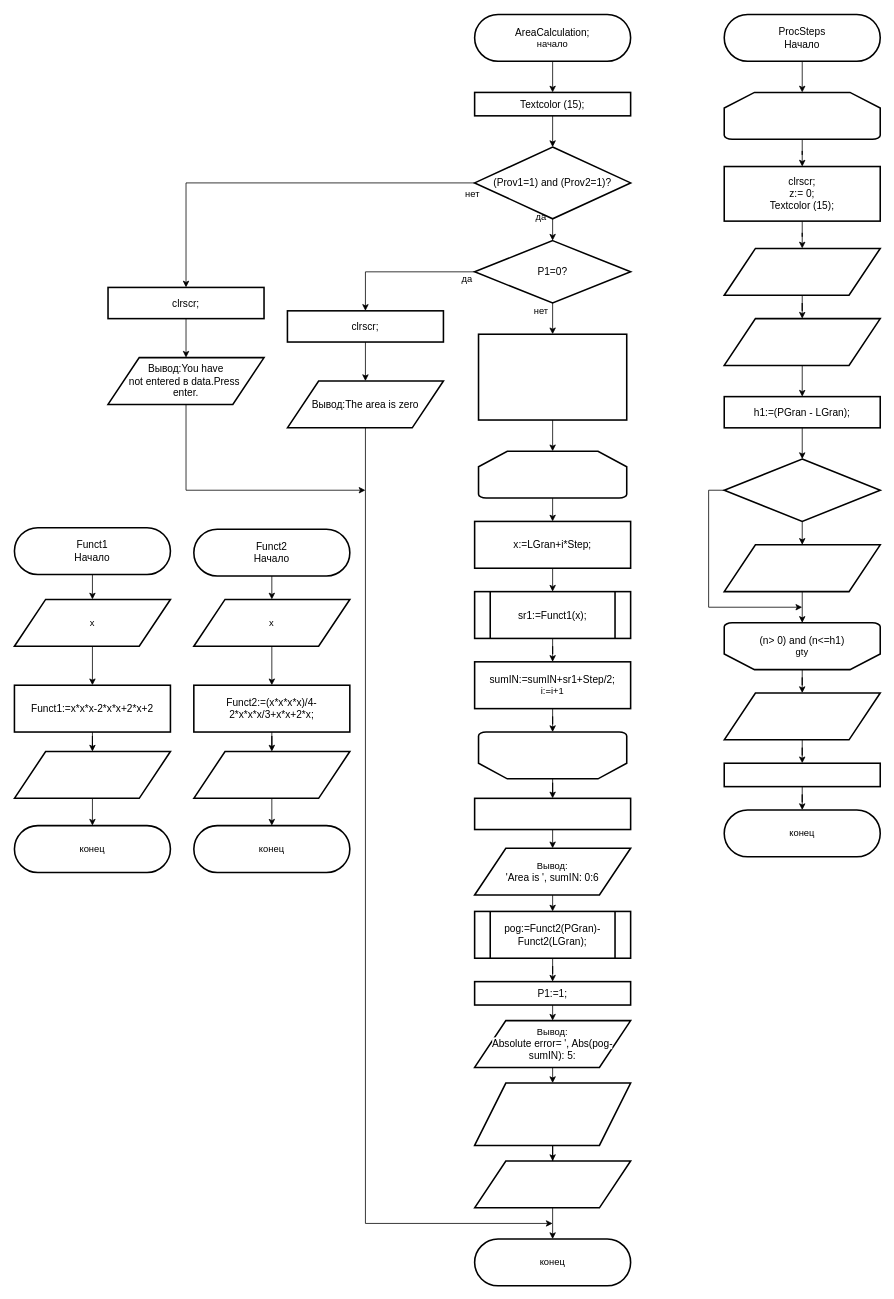
The diagram is 894 pixels wide and 1299 high, and some of its shapes have lost their labels. The centre of each missing label's shape, as x and y in pixels:
(n< 0) or (n>h1)?: point (802, 490)
gty: point (802, 115)
h:= (PGran - LGran) /Step; h2:=Round(h); clrscr; f:=0; sumIN:=0; i:=1: point (552, 376)
lkj: point (552, 755)
lkj I>h2-1: point (552, 474)
Prov2 :=1;: point (802, 774)
sumIN:=sumIN*Step;: point (552, 813)
Ввод Step: point (802, 341)
Вернуть Funct1: point (92, 774)
Вернуть Funct2: point (271, 774)
Вывод: Enter a step: point (802, 271)
Вывод: Incorrect input . Press enter and try again': point (802, 568)
Вывод: Press enter to exit the menu: point (552, 1184)
Вывод: Press enter to exit the menu.: point (802, 716)
Вывод: Relative error= ', ((Abs(pog-sumIN))/sumIN) *100: 3:6,'%: point (552, 1114)
